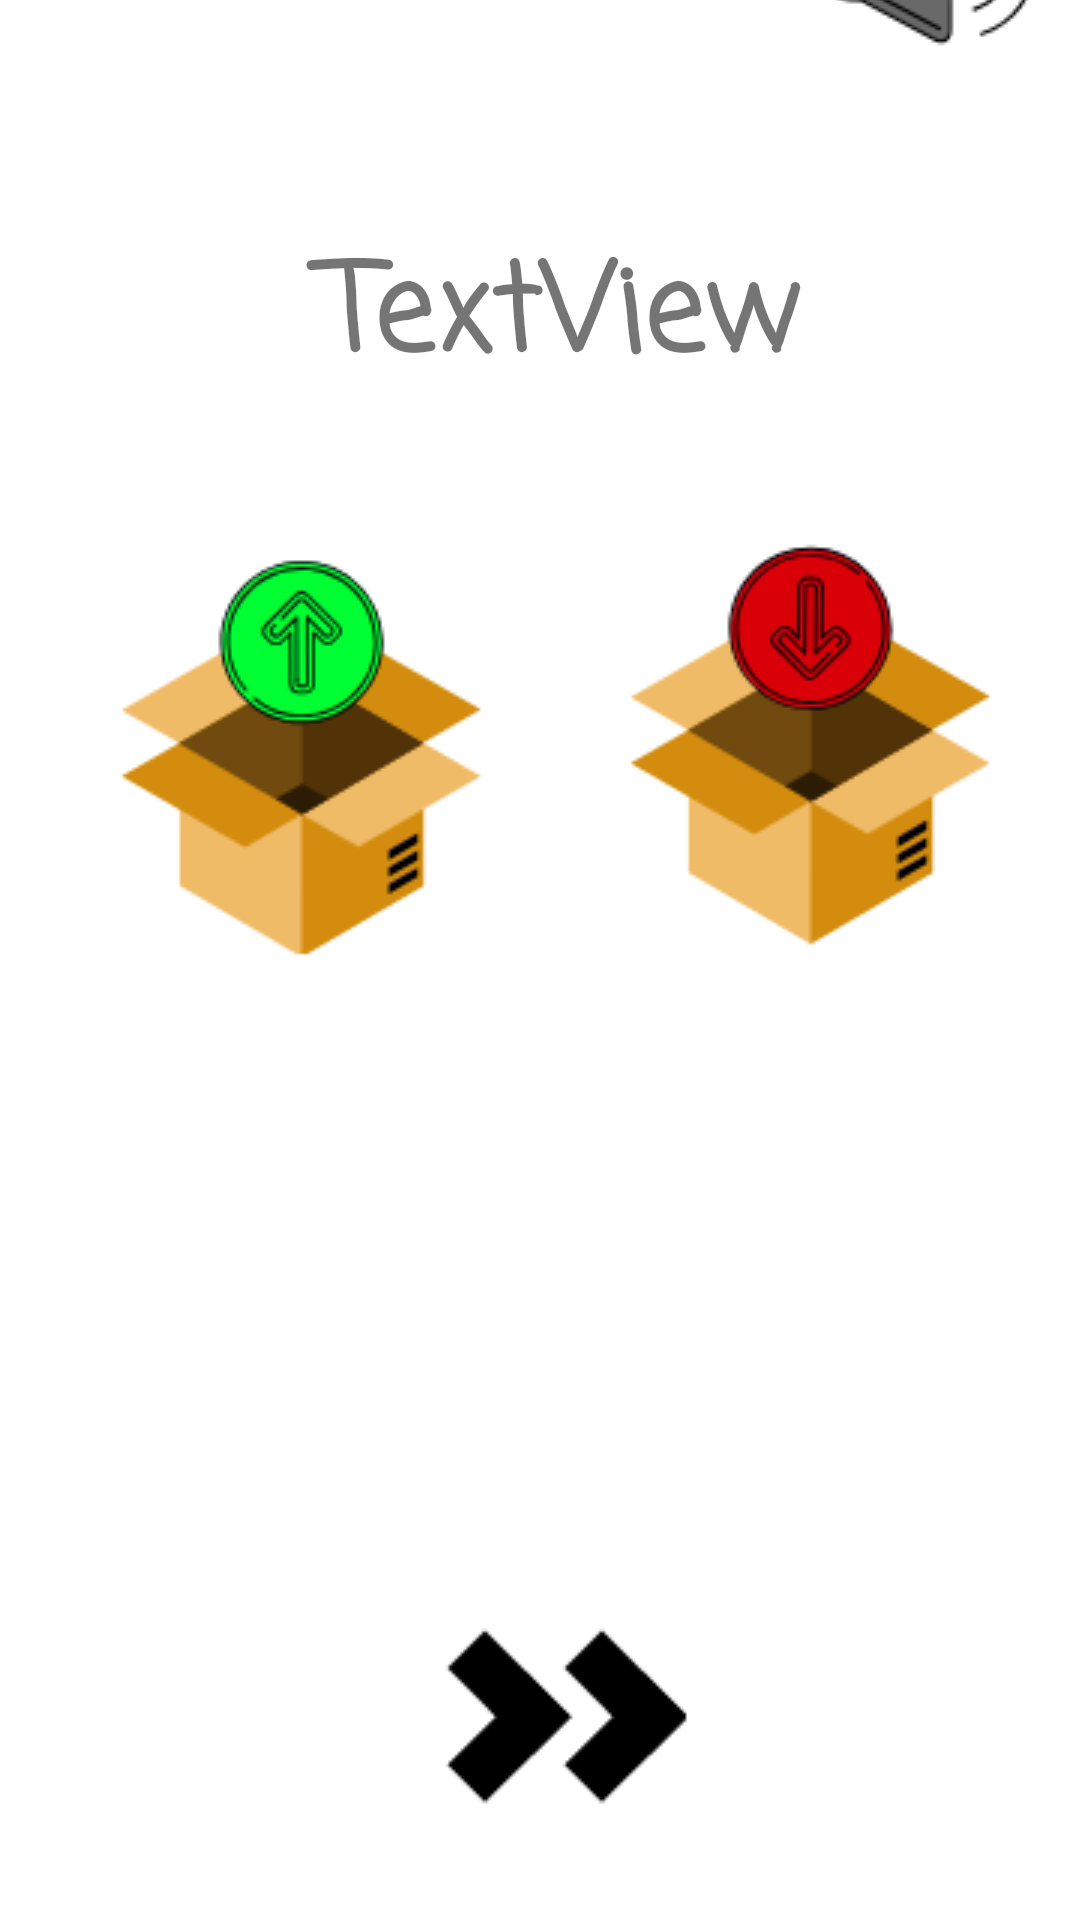

Locate icon controls on the screen. Image size 1080x1920, boxes as (x1, y1, x2, y2).
next: (446, 1630, 687, 1804)
